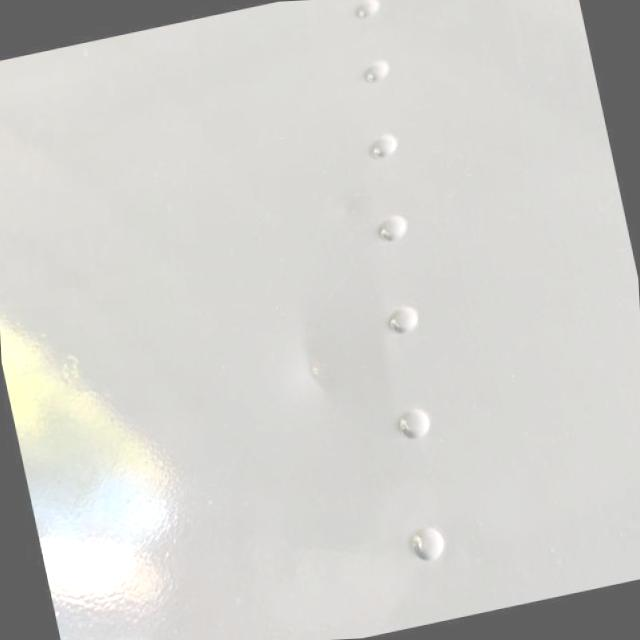dent: (284, 301, 346, 416)
